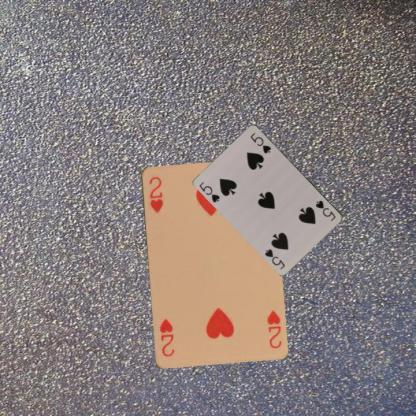2h: (264, 308, 283, 350), (145, 174, 164, 214)
5s: (196, 179, 221, 204), (313, 198, 338, 222)
